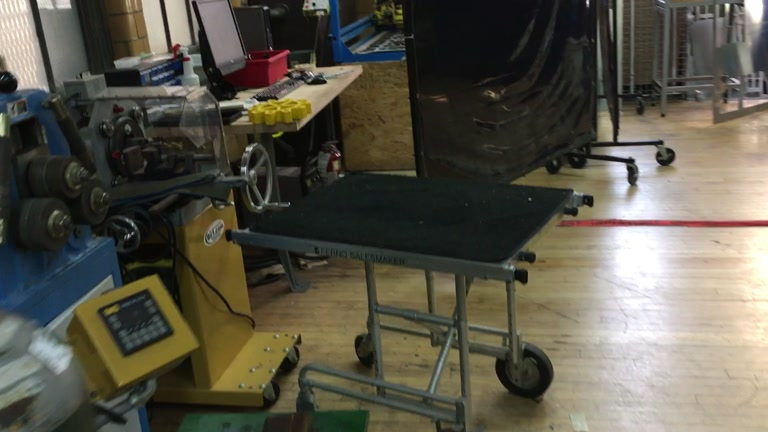gear: (246, 97, 311, 126)
